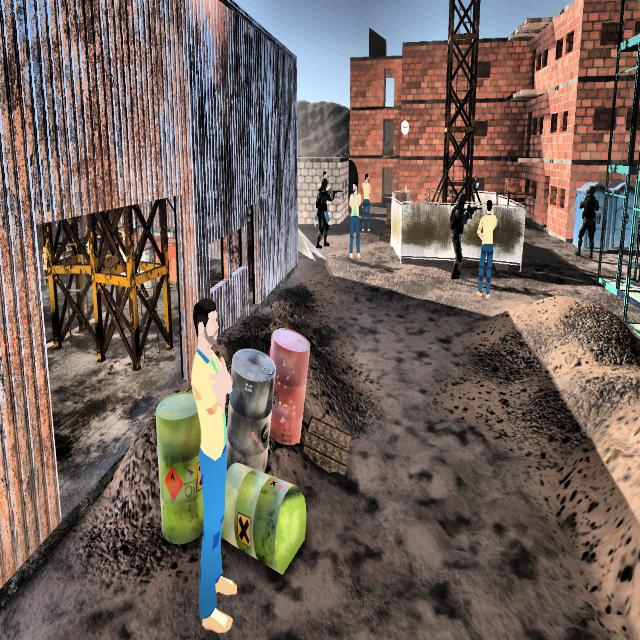bad: (447, 190, 473, 280), (578, 171, 596, 261), (314, 173, 332, 258)
good: (182, 290, 250, 640), (476, 192, 498, 293), (345, 177, 364, 260), (362, 159, 372, 231)
